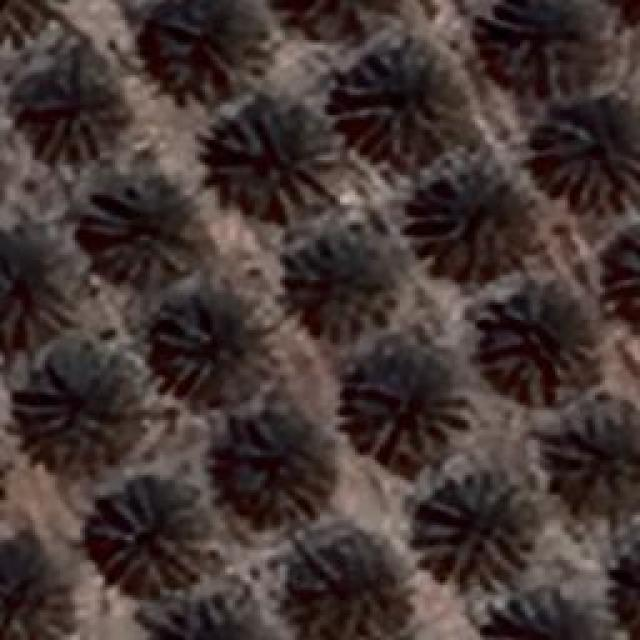PalmTree: (45, 96, 618, 586), (42, 17, 619, 96), (410, 468, 532, 588), (332, 45, 458, 160), (412, 150, 520, 280), (215, 110, 343, 218), (92, 474, 210, 588), (137, 302, 270, 400), (478, 290, 592, 402), (295, 534, 415, 638), (82, 175, 196, 280), (345, 364, 470, 458), (230, 417, 338, 525), (150, 0, 270, 95), (532, 102, 638, 208), (288, 232, 390, 340), (14, 350, 118, 448), (0, 224, 80, 346), (30, 62, 128, 160), (0, 529, 78, 640), (552, 410, 638, 508), (482, 0, 588, 70), (477, 589, 613, 640), (131, 589, 266, 640), (262, 0, 397, 50), (0, 0, 60, 53), (608, 225, 638, 318)
